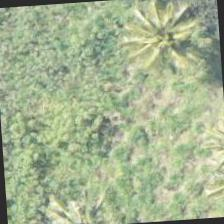Kelapa_Sawit: (112, 2, 208, 97)
